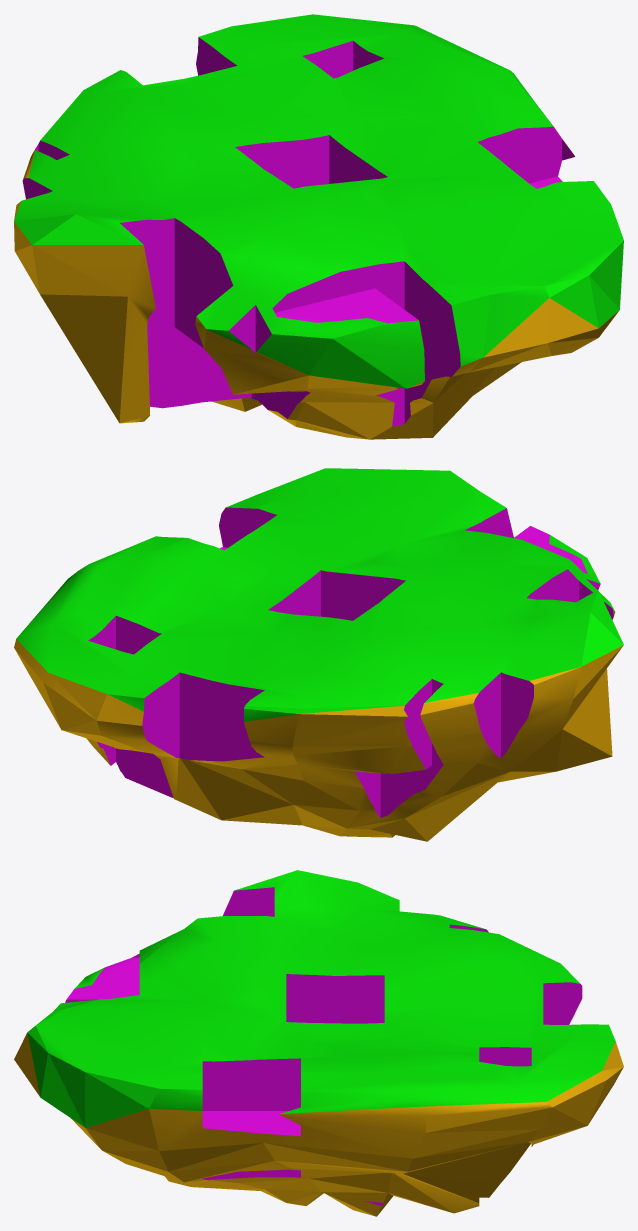
Rendered from LandChunkC_Glitch.fbx.
3 renders of one model, top to bottom at view 1: azimuth 30°, elevation 25°; view 2: azimuth 150°, elevation 25°; view 3: azimuth 270°, elevation 25°, orthographic. The views are drawn at different scales.
Visible parts, largest first — view 1: LandChunkC_Glitch; view 2: LandChunkC_Glitch; view 3: LandChunkC_Glitch.
Boxes of the visible parts, left/top/right/bottom form: LandChunkC_Glitch: left=14, top=14, right=623, bottom=439; LandChunkC_Glitch: left=14, top=468, right=623, bottom=841; LandChunkC_Glitch: left=14, top=870, right=623, bottom=1216.
Size of the model in its own units: 40.77 by 19.04 by 46.83.
